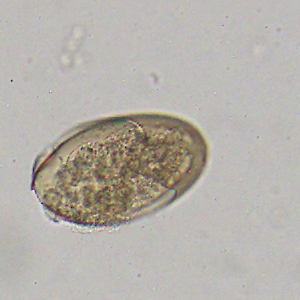Fasciola_hepatica_egg: (31, 110, 212, 227)
